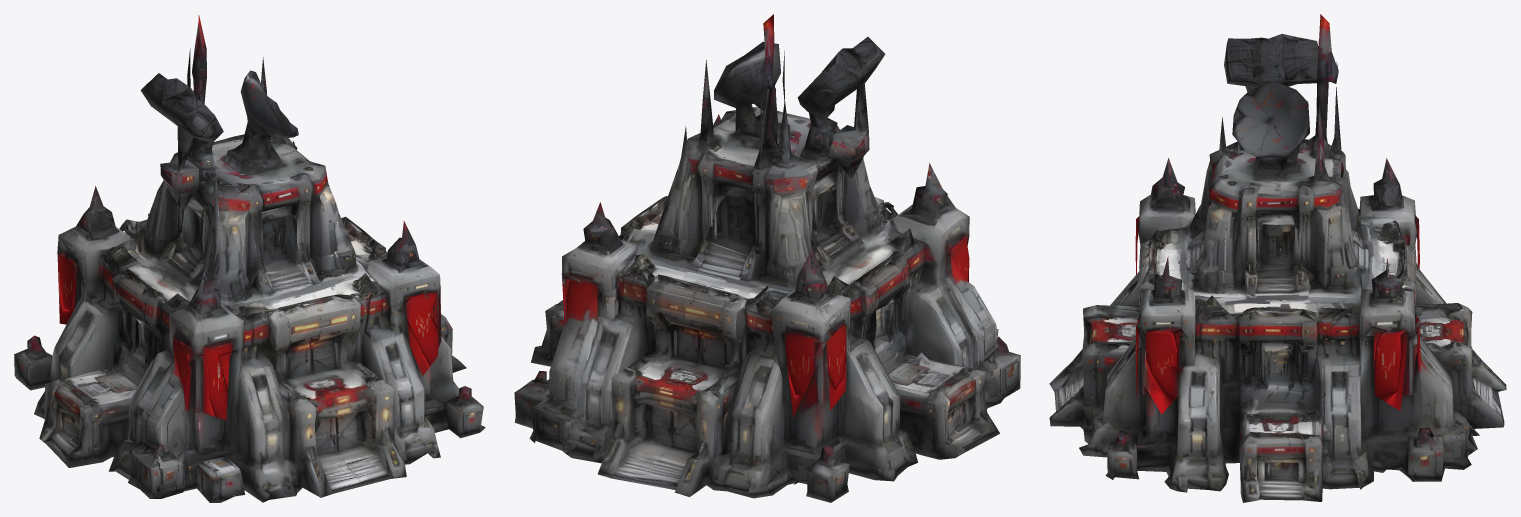
The model's file is futuristic_fortress_3d_model.fbx.
The picture shows the model from 3 angles, left to right: view 1: azimuth 30°, elevation 25°; view 2: azimuth 150°, elevation 25°; view 3: azimuth 270°, elevation 25°; orthographic projection. The views are drawn at different scales.
Visible parts, largest first — view 1: tripo_node_8c52eaf8; view 2: tripo_node_8c52eaf8; view 3: tripo_node_8c52eaf8.
Part boxes in pixels (bbox=[...]): tripo_node_8c52eaf8: bbox=[14, 15, 485, 502]; tripo_node_8c52eaf8: bbox=[514, 14, 1020, 502]; tripo_node_8c52eaf8: bbox=[1049, 14, 1506, 502].
Bounding box in the file's own units: 1 × 0.9208 × 0.9982.
